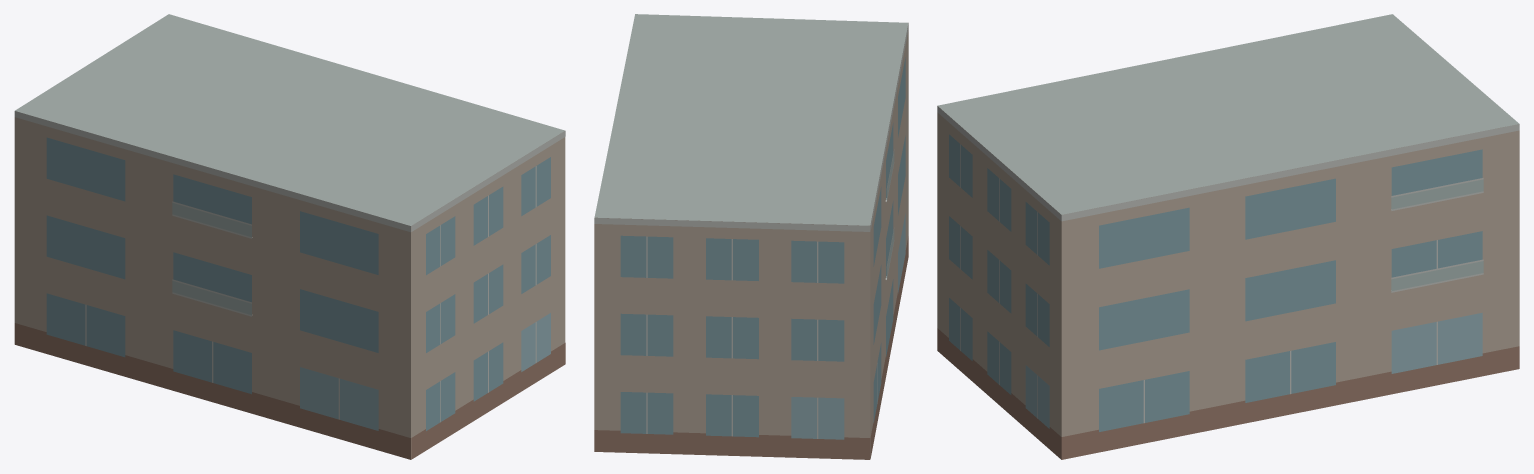
The model's file is survey-upis-32932156.glb.
The picture shows the model from 3 angles, left to right: view 1: azimuth 30°, elevation 25°; view 2: azimuth 150°, elevation 25°; view 3: azimuth 270°, elevation 25°; orthographic projection. The views are drawn at different scales.
Parts seen in each view (by area): view 1: survey-upis-32932156.tmp; view 2: survey-upis-32932156.tmp; view 3: survey-upis-32932156.tmp.
Part boxes in pixels (box(x1,y1,x2,y2)): survey-upis-32932156.tmp: box(14, 14, 565, 459); survey-upis-32932156.tmp: box(594, 14, 908, 459); survey-upis-32932156.tmp: box(937, 14, 1519, 459).
Bounding box in the file's own units: 16.1 × 9.15 × 19.72.
